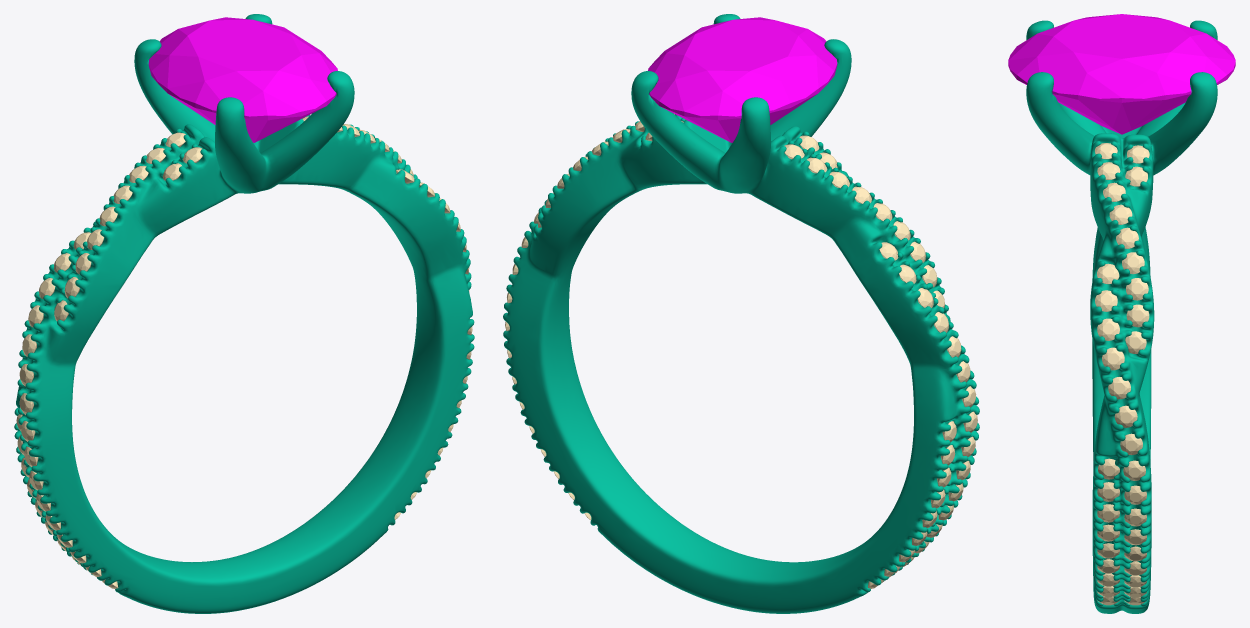
The model's file is BE1M55D_OV_200ct_RENDER.glb.
3 views of the same model, side by side, from view 1: azimuth 30°, elevation 25°; view 2: azimuth 150°, elevation 25°; view 3: azimuth 270°, elevation 25° (orthographic).
Visible parts, largest first — view 1: Metal 01, CS_Diamond_Oval; view 2: Metal 01, CS_Diamond_Oval; view 3: Metal 01, CS_Diamond_Oval, Diamond_Round_Gem_SH.012, Diamond_Round_Gem_SH.013, Diamond_Round_Gem_SH.011, Diamond_Round_Gem_SH.026, Diamond_Round_Gem_SH.014, Diamond_Round_Gem_SH.027, Diamond_Round_Gem_SH.010, Diamond_Round_Gem_SH.025, Diamond_Round_Gem_SH.028, Diamond_Round_Gem_SH.015 (+6 smaller).
Part boxes in pixels (x1,y1,x2,y2): Metal 01: (14,14,474,613); CS_Diamond_Oval: (148,17,337,142); Metal 01: (503,14,979,613); CS_Diamond_Oval: (648,17,837,142); Metal 01: (1026,20,1217,613); CS_Diamond_Oval: (1008,14,1235,134); Diamond_Round_Gem_SH.012: (1102,347,1124,370); Diamond_Round_Gem_SH.013: (1108,377,1130,399); Diamond_Round_Gem_SH.011: (1097,318,1119,340); Diamond_Round_Gem_SH.026: (1126,304,1149,327); Diamond_Round_Gem_SH.014: (1114,405,1137,427); Diamond_Round_Gem_SH.027: (1126,278,1148,300); Diamond_Round_Gem_SH.010: (1095,290,1117,311); Diamond_Round_Gem_SH.025: (1125,331,1146,353); Diamond_Round_Gem_SH.028: (1122,252,1144,274); Diamond_Round_Gem_SH.015: (1120,433,1142,455).
Size of the model in its own units: 20.69 by 24.14 by 9.
